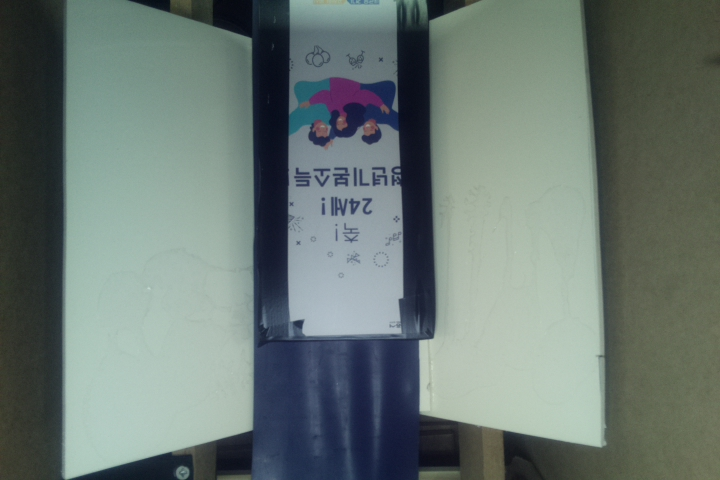book: (254, 1, 432, 347)
